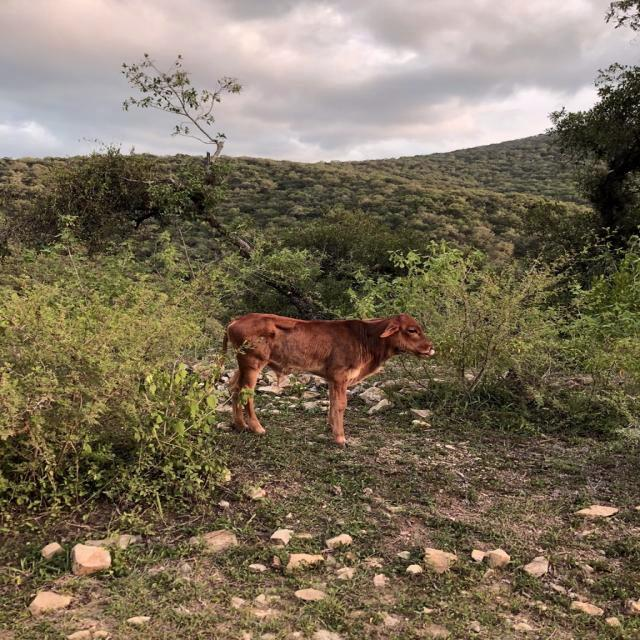cow: (224, 314, 432, 446)
